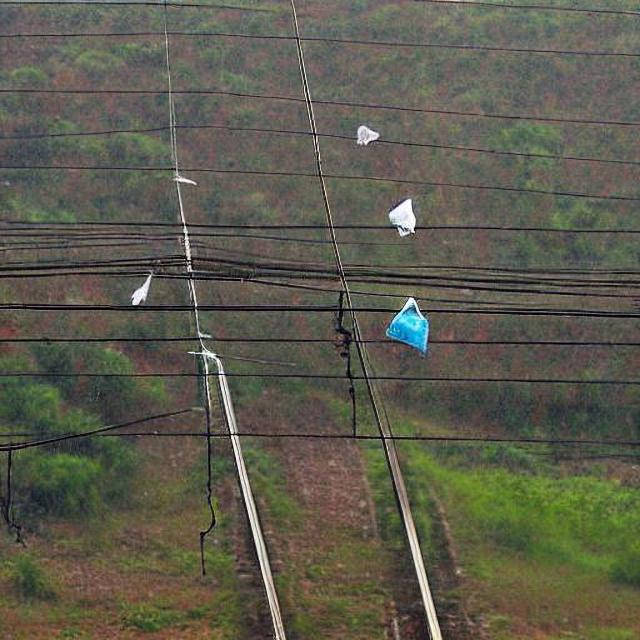plastic bag: (386, 296, 430, 356), (387, 196, 417, 237), (355, 122, 381, 148)
